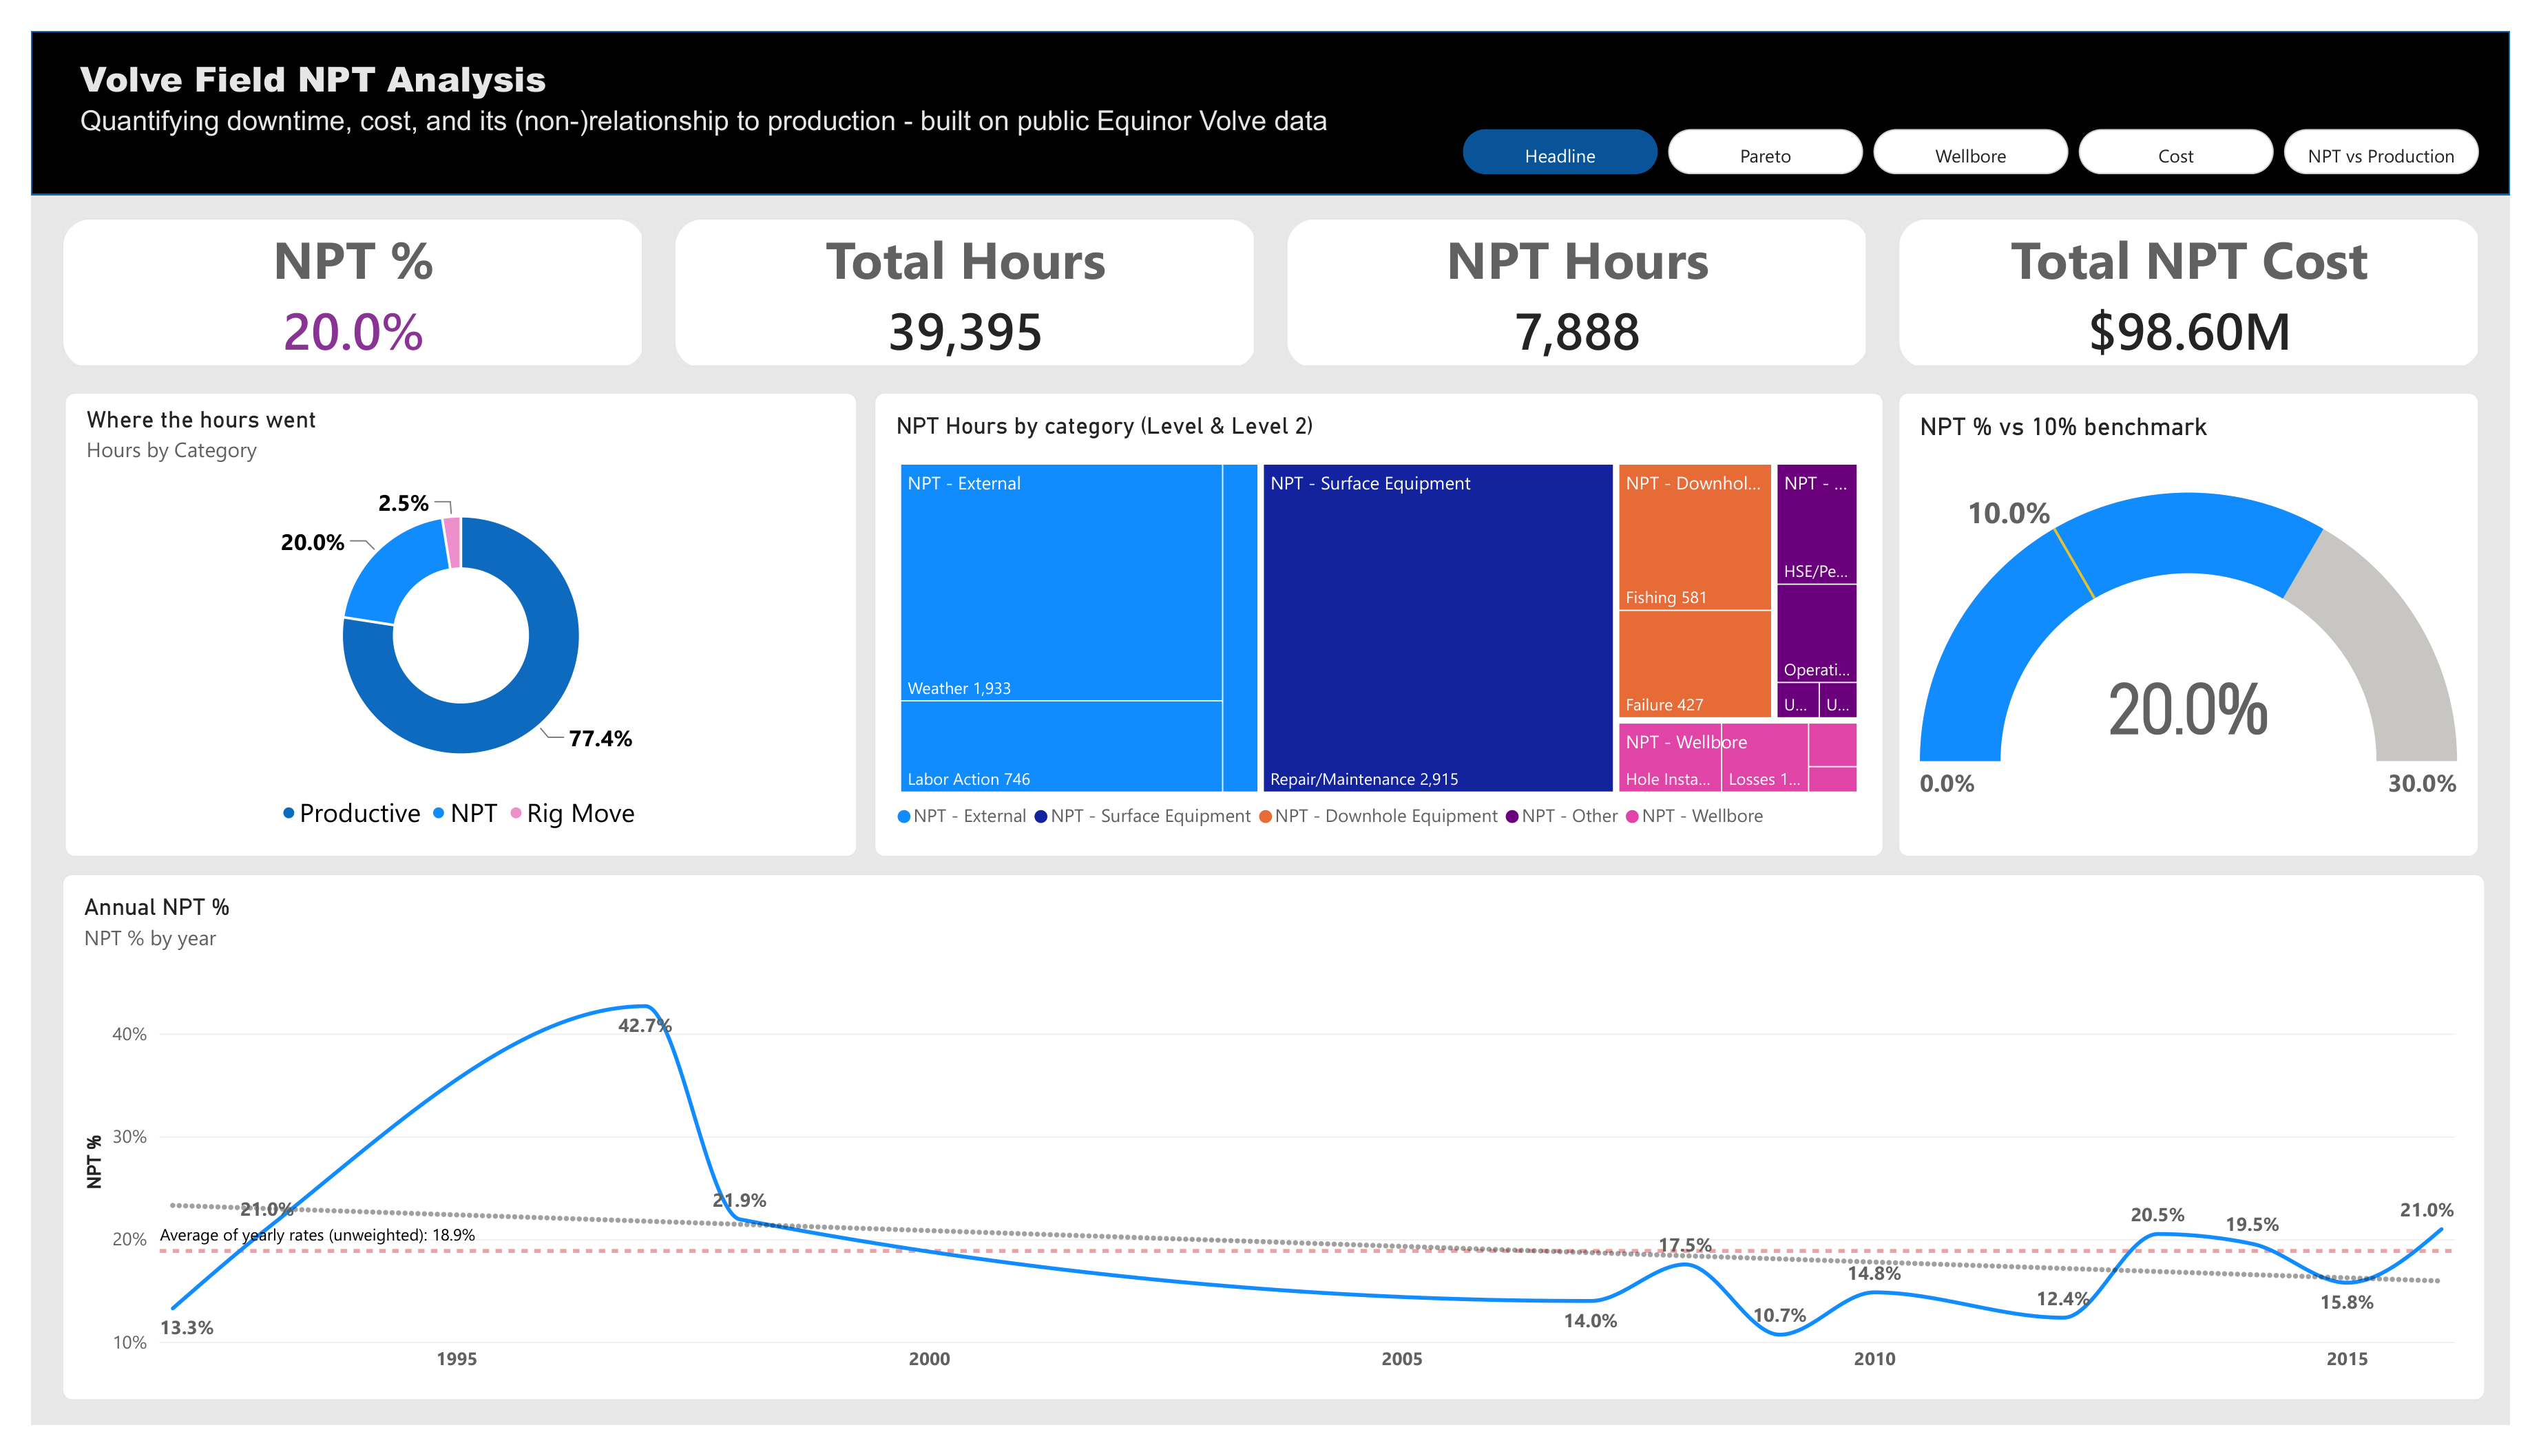

The dashboard page shown, as its layout file describes it:
{"tool":"powerbi","page":{"name":"Headline","canvas":[1920,1080],"ordinal":0},"visuals":[{"type":"shape","box":[0,0,1920,126.7],"z":0},{"type":"donutChart","title":"Where the hours went","fields":{"Category":["_HoursCategory.Category"],"Y":["_Measures.Hours by Category"]},"box":[26,280,614,360],"z":1000},{"type":"cardVisual","fields":{"Data":["_Measures.NPT %"]},"box":[24,145,450,115],"z":2000},{"type":"cardVisual","fields":{"Data":["_Measures.Total Hours"]},"box":[498,145,450,115],"z":3000},{"type":"cardVisual","fields":{"Data":["_Measures.NPT Hours"]},"box":[972,145,450,115],"z":4000},{"type":"cardVisual","fields":{"Data":["_Measures.NPT Cost"]},"box":[1446,145,450,115],"z":5000},{"type":"textbox","title":"Volve Field NPT Analysis","box":[38.3,18.3,1278.3,75],"z":6000},{"type":"treemap","title":"NPT Hours by category (Level & Level 2)","fields":{"Details":["public dim_npt_category.level2"],"Group":["public dim_npt_category.level1"],"Values":["_Measures.NPT Hours"]},"box":[653,280,782,360],"z":7000},{"type":"gauge","title":"NPT % vs 10% benchmark","fields":{"Y":["_Measures.NPT %"]},"box":[1446,280,450,360],"z":8000},{"type":"lineChart","title":"Annual NPT %","fields":{"Category":["public dim_date.year"],"Y":["_Measures.NPT %"]},"box":[23.5,653,1877.2,408],"z":9000},{"type":"pageNavigator","box":[1109,76,791.2,35],"z":10000}]}

Visuals, with their boxes in screenshot pixels (x1, y1, x2, y2), scaled from the page's 1920x1080 canvas onto the 2541x1456 screenshot:
shape: select_region(0, 0, 2540, 171)
"Where the hours went" donutChart: select_region(34, 377, 847, 863)
cardVisual - _Measures.NPT %: select_region(32, 196, 627, 350)
cardVisual - _Measures.Total Hours: select_region(659, 196, 1255, 350)
cardVisual - _Measures.NPT Hours: select_region(1286, 196, 1882, 350)
cardVisual - _Measures.NPT Cost: select_region(1914, 196, 2509, 350)
"Volve Field NPT Analysis" textbox: select_region(51, 25, 1742, 126)
"NPT Hours by category (Level & Level 2)" treemap: select_region(864, 377, 1899, 863)
"NPT % vs 10% benchmark" gauge: select_region(1914, 377, 2509, 863)
"Annual NPT %" lineChart: select_region(31, 880, 2516, 1431)
pageNavigator: select_region(1467, 103, 2515, 149)
